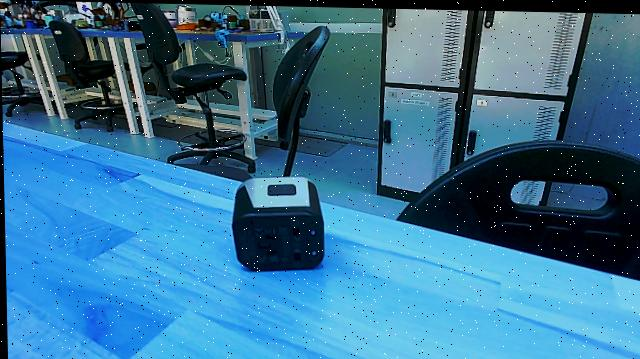adapter: (228, 172, 330, 275)
